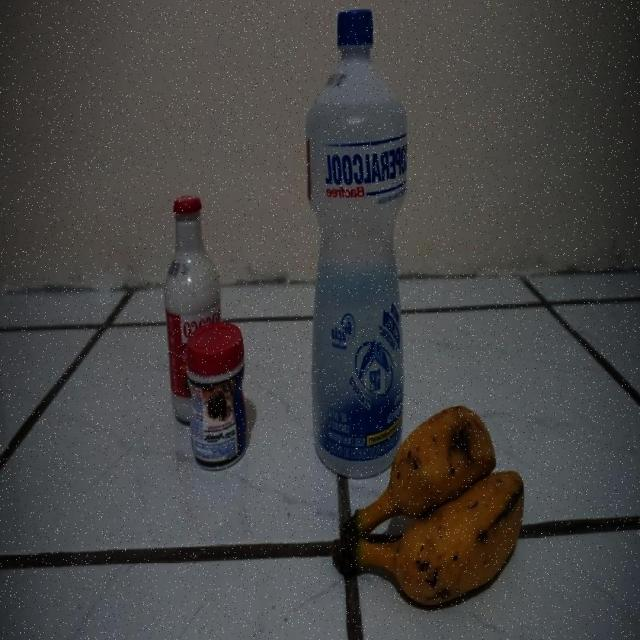AlcoholBottle: (304, 11, 411, 402)
Banana: (331, 408, 526, 608)
CoconutMilk: (163, 195, 218, 320)
Yeast: (186, 324, 247, 467)
